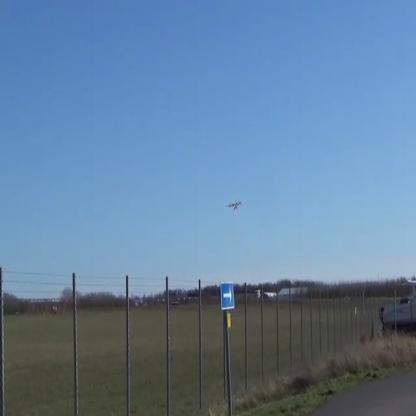CIV_Plane: (224, 196, 246, 214)
